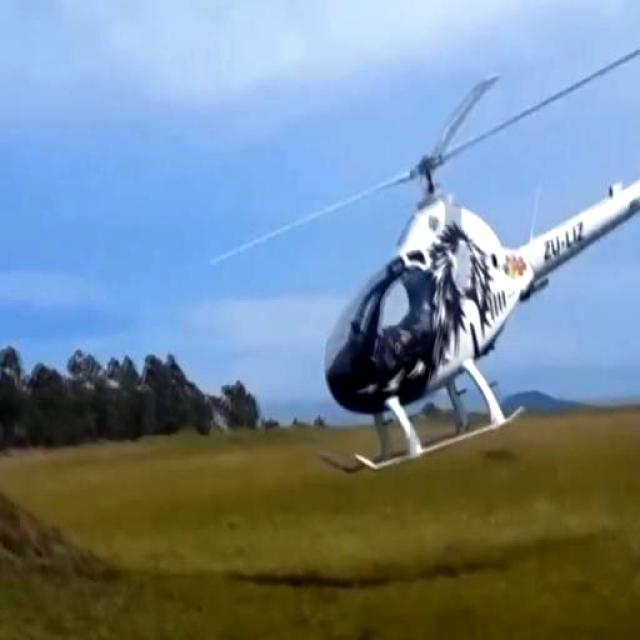drone: (331, 86, 640, 502)
